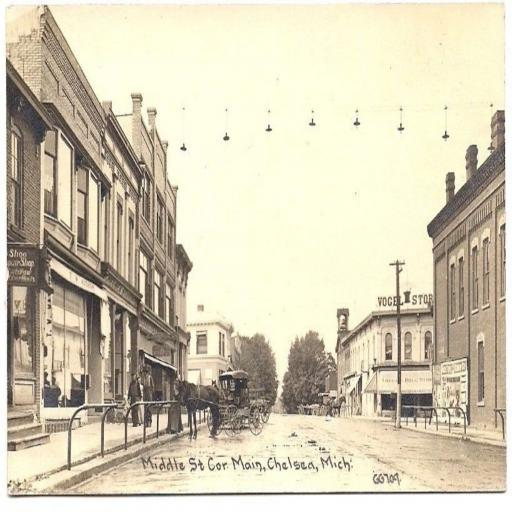Horse: (172, 374, 222, 438)
